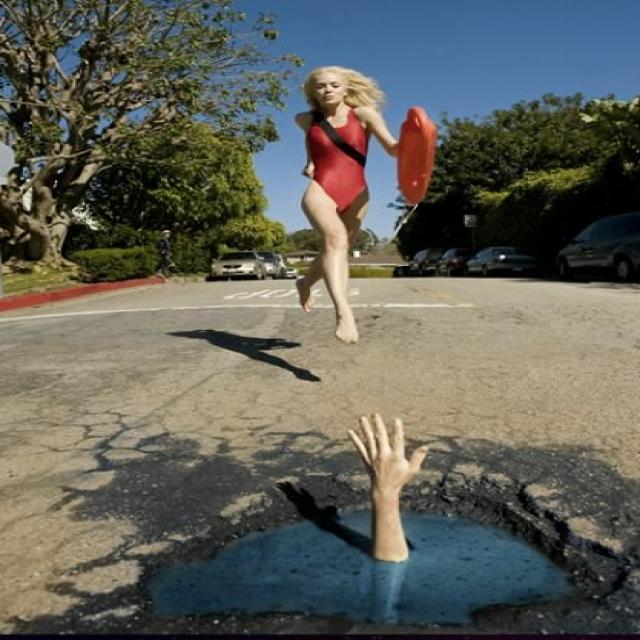Pothole: (118, 461, 640, 639)
